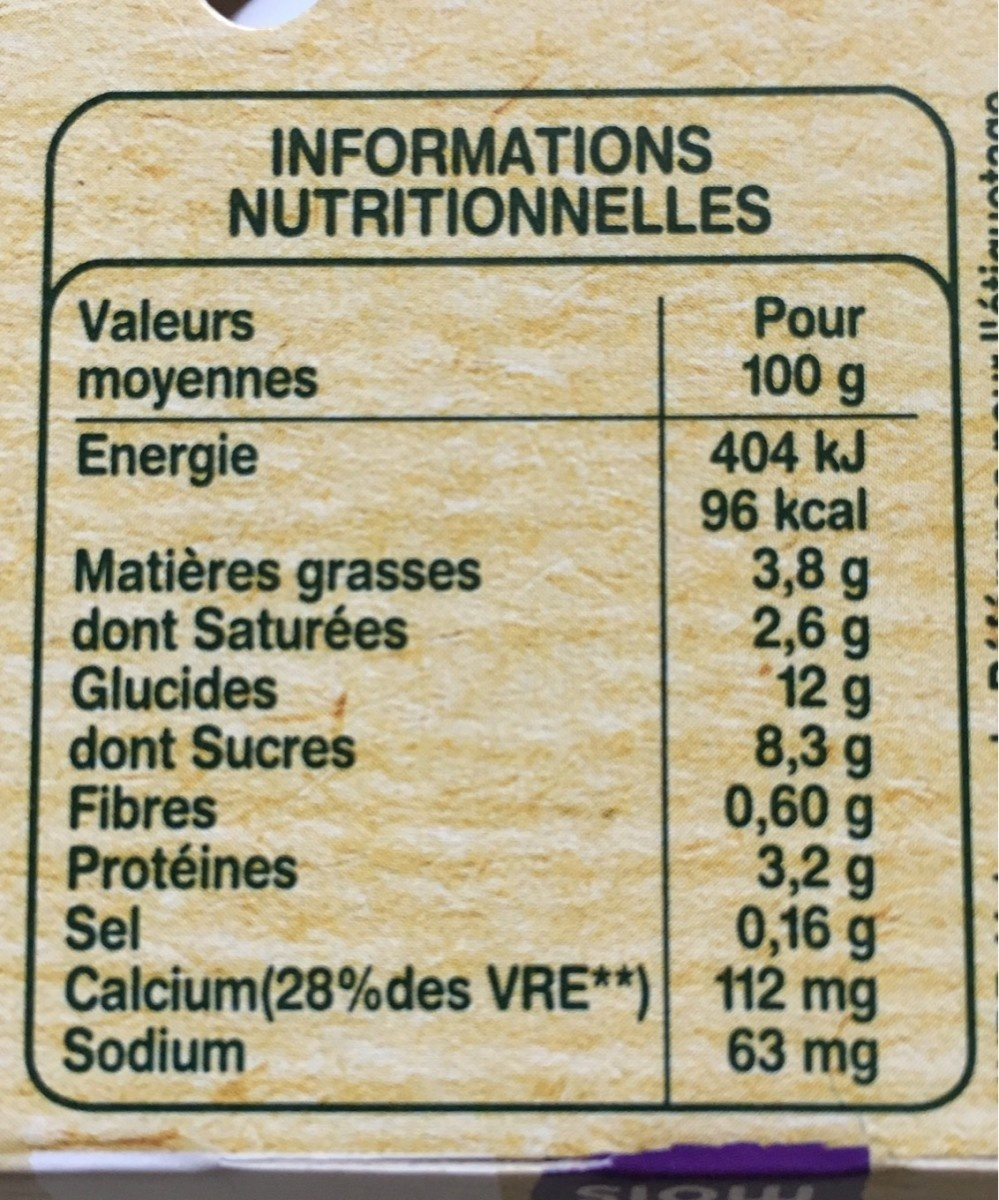column: (69, 284, 649, 1084), (700, 286, 876, 1088)
table: (31, 83, 980, 1106)
